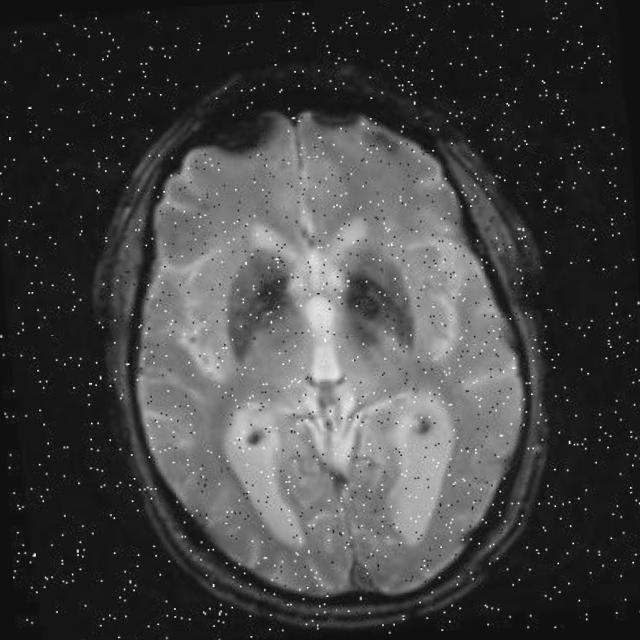MCI: (209, 236, 305, 374), (344, 267, 424, 366)
